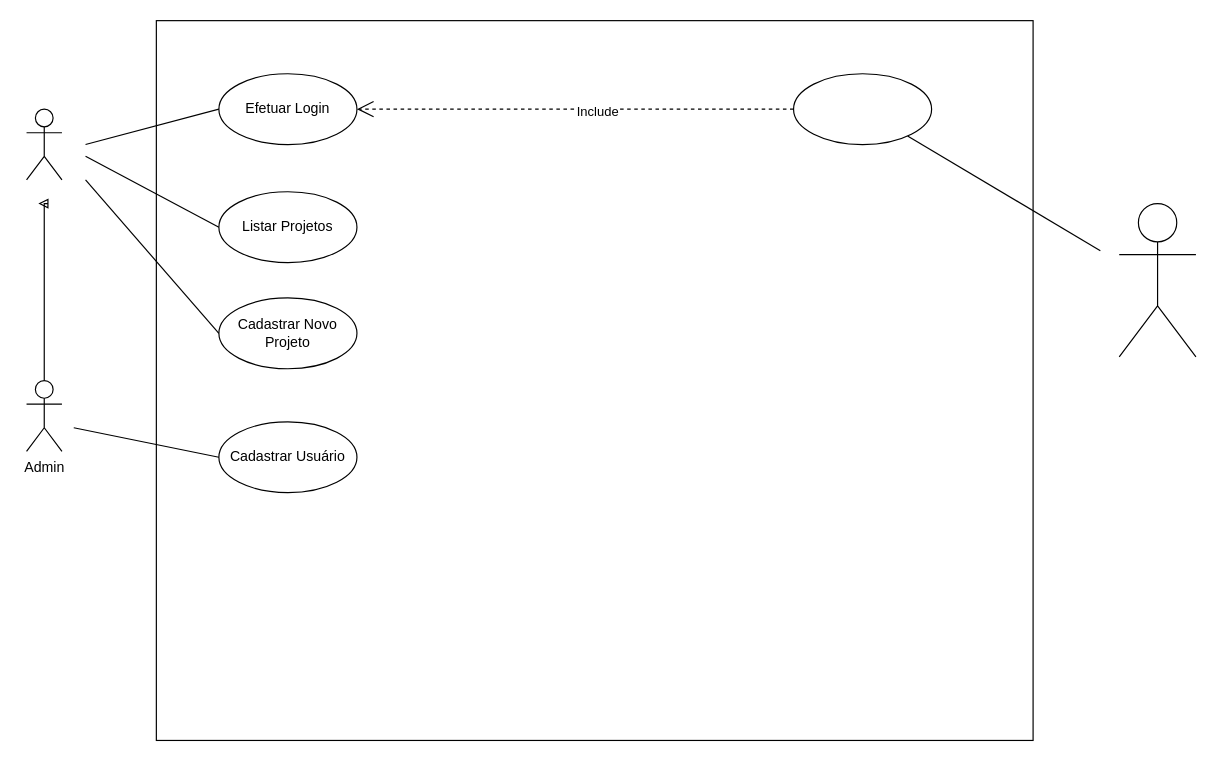
Some shapes in this 1217 by 761 pixel diagram are drawn without their labels. The box of each missing label's shape, as (x1, y1, x2, y2) in pixels:
Sistema: (1118, 202, 1196, 357)
Usuário: (25, 108, 62, 180)
Verificar Senha: (792, 73, 932, 145)
